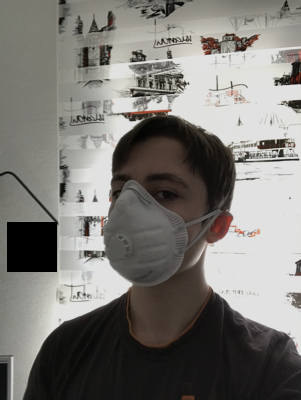with_mask: (104, 158, 194, 287)
